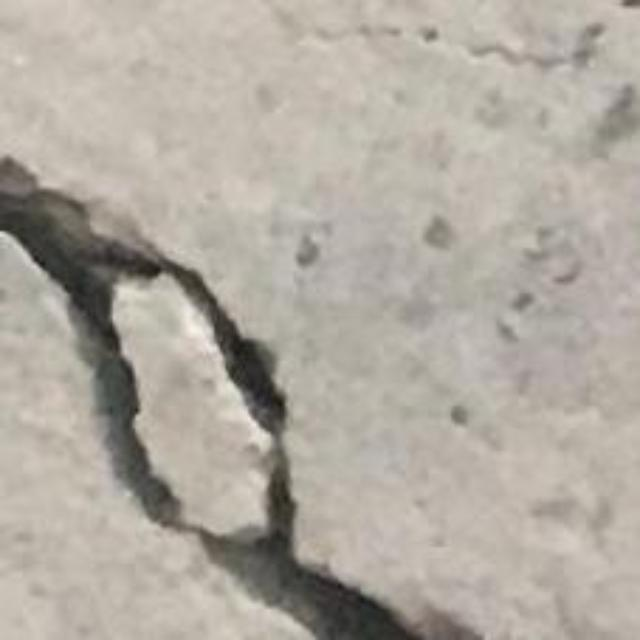crack: (0, 158, 482, 639)
